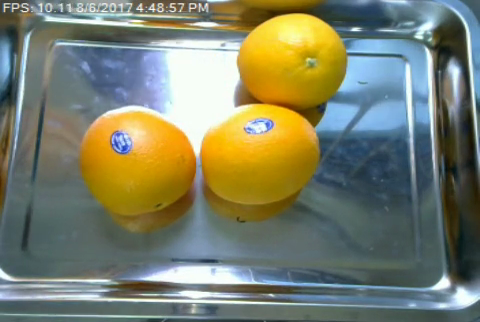Orange: (77, 106, 196, 218), (199, 104, 320, 204), (238, 14, 348, 109)
